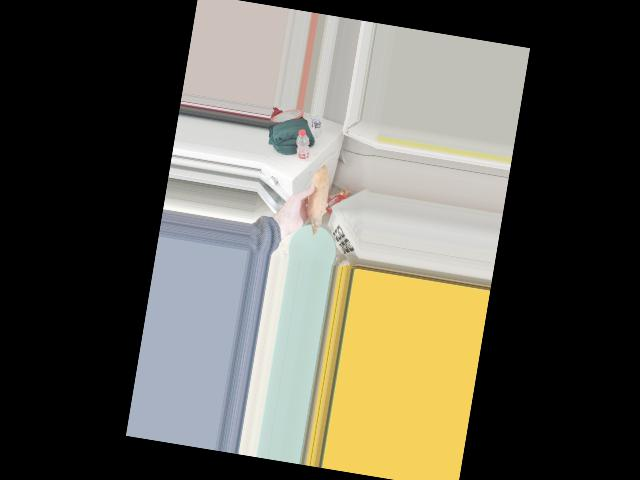sweet_potato: (305, 165, 331, 228)
